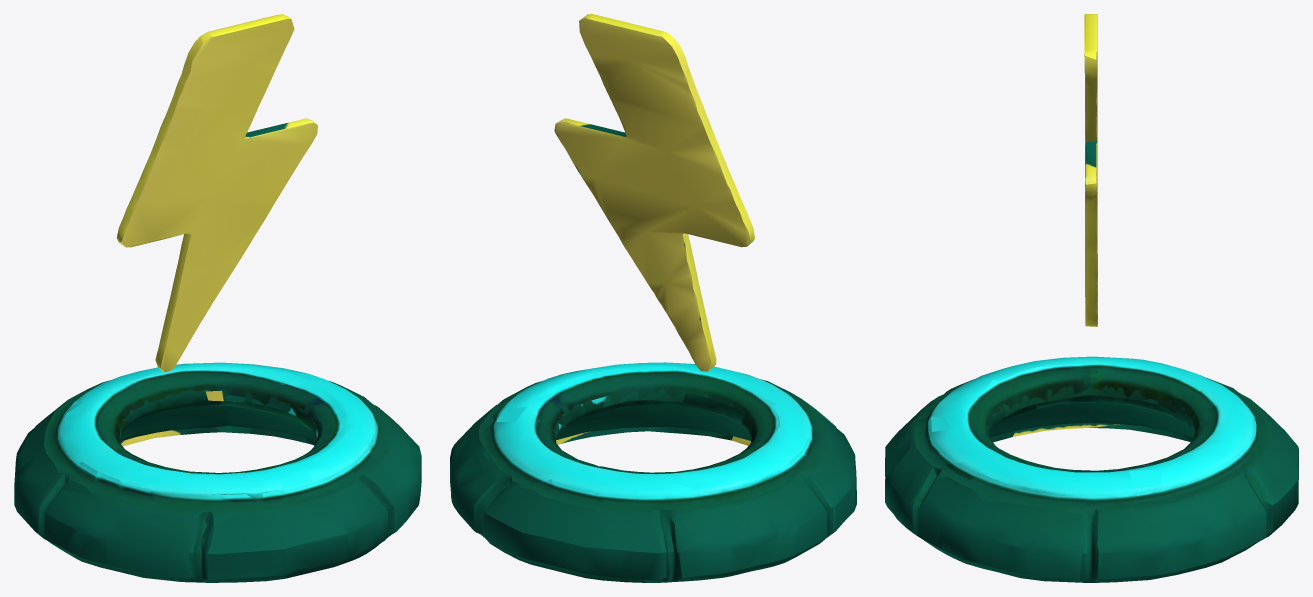
File: Speed.fbx
3 renders of one model, left to right at view 1: azimuth 30°, elevation 25°; view 2: azimuth 150°, elevation 25°; view 3: azimuth 270°, elevation 25°, orthographic. The views are drawn at different scales.
Visible parts, largest first — view 1: tmpci19ngw_.ply; view 2: tmpci19ngw_.ply; view 3: tmpci19ngw_.ply.
Boxes of the visible parts, x1,y1,x2,y2 form: tmpci19ngw_.ply: (14,14,421,582); tmpci19ngw_.ply: (450,14,856,582); tmpci19ngw_.ply: (885,14,1298,582).
Bounding box in the file's own units: 158 × 199 × 155.
Materials: 1 (1 with a texture image).
